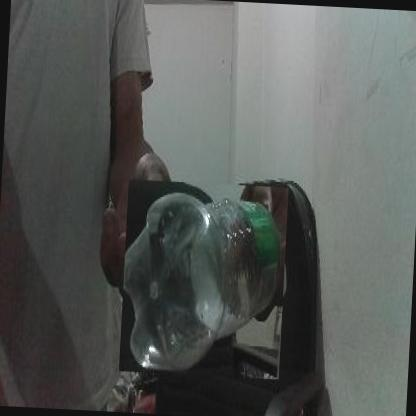plastic_bottles: (118, 179, 288, 379)
